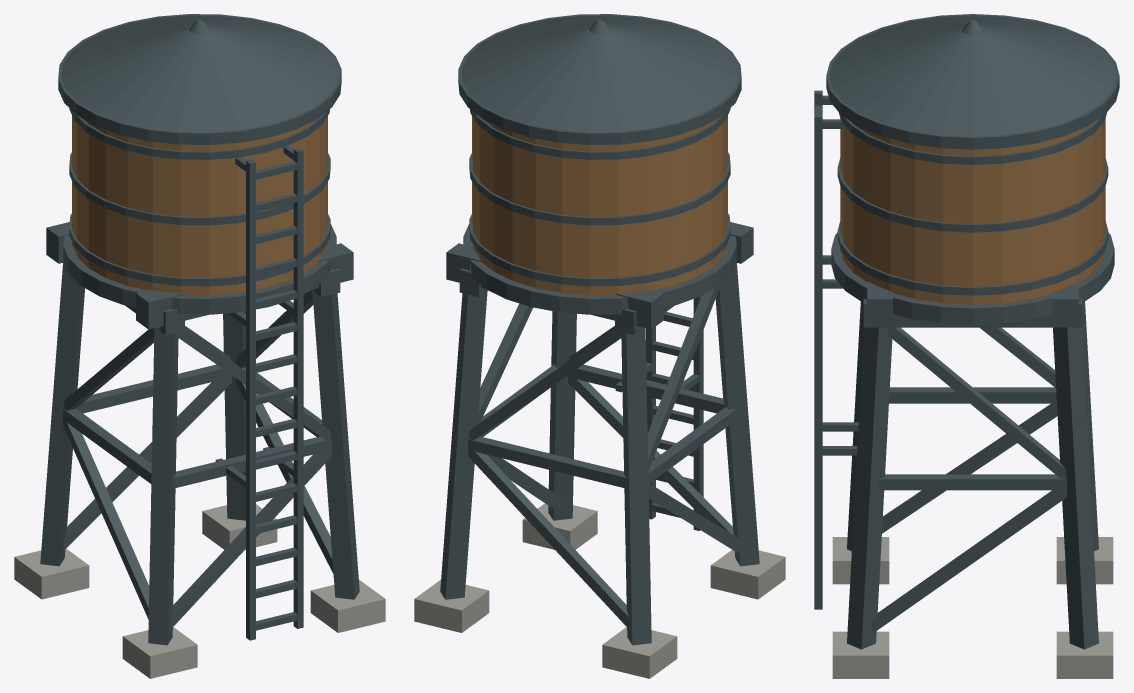
Rendered from NEW_RECOVERY_116_LOD1.glb.
The picture shows the model from 3 angles, left to right: view 1: azimuth 30°, elevation 25°; view 2: azimuth 150°, elevation 25°; view 3: azimuth 270°, elevation 25°; orthographic projection. The views are drawn at different scales.
Visible parts, largest first — view 1: WaterTowerSolid; view 2: WaterTowerSolid; view 3: WaterTowerSolid.
Boxes of the visible parts, box(x1,y1,x2,y2) form: WaterTowerSolid: box(14, 14, 385, 678); WaterTowerSolid: box(414, 14, 785, 678); WaterTowerSolid: box(814, 14, 1119, 678).
Size of the model in its own units: 2.28 by 5.13 by 2.37.
